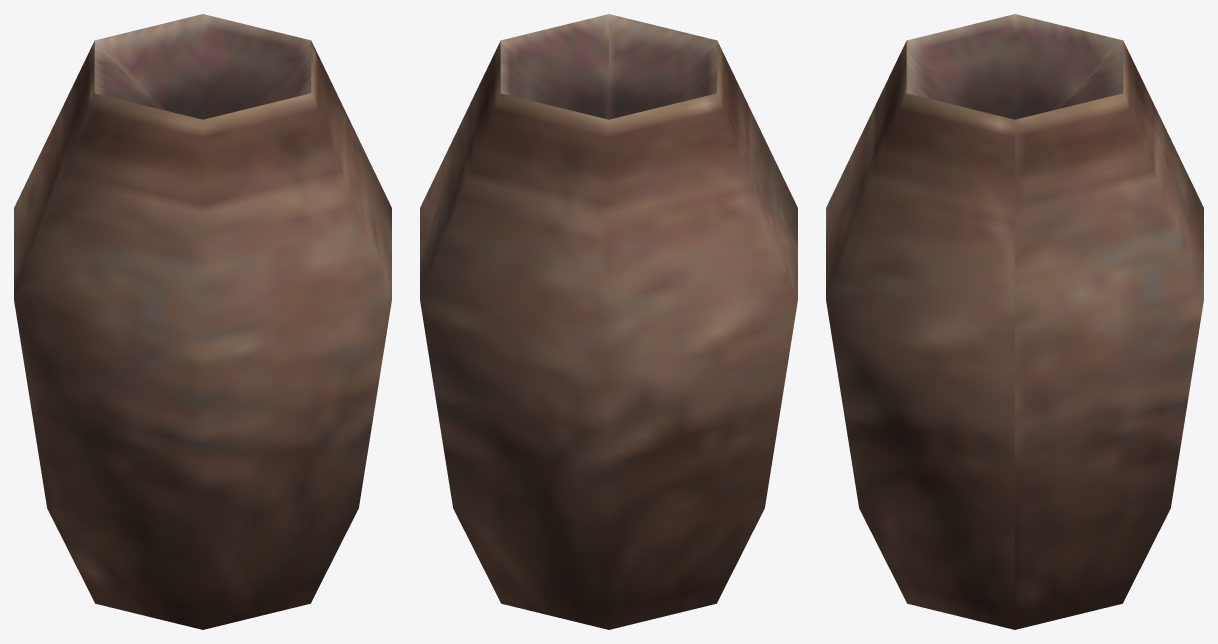
Rendered from SC_huangmo_14.FBX.
3 views of the same model, side by side, from view 1: azimuth 30°, elevation 25°; view 2: azimuth 150°, elevation 25°; view 3: azimuth 270°, elevation 25° (orthographic).
Visible parts, largest first — view 1: SC_huangmo_14; view 2: SC_huangmo_14; view 3: SC_huangmo_14.
Part boxes in pixels (left/top/right/bottom): SC_huangmo_14: left=14, top=14, right=391, bottom=629; SC_huangmo_14: left=420, top=14, right=797, bottom=629; SC_huangmo_14: left=826, top=14, right=1203, bottom=629.
Bounding box in the file's own units: 65.77 × 84.9 × 56.96.
